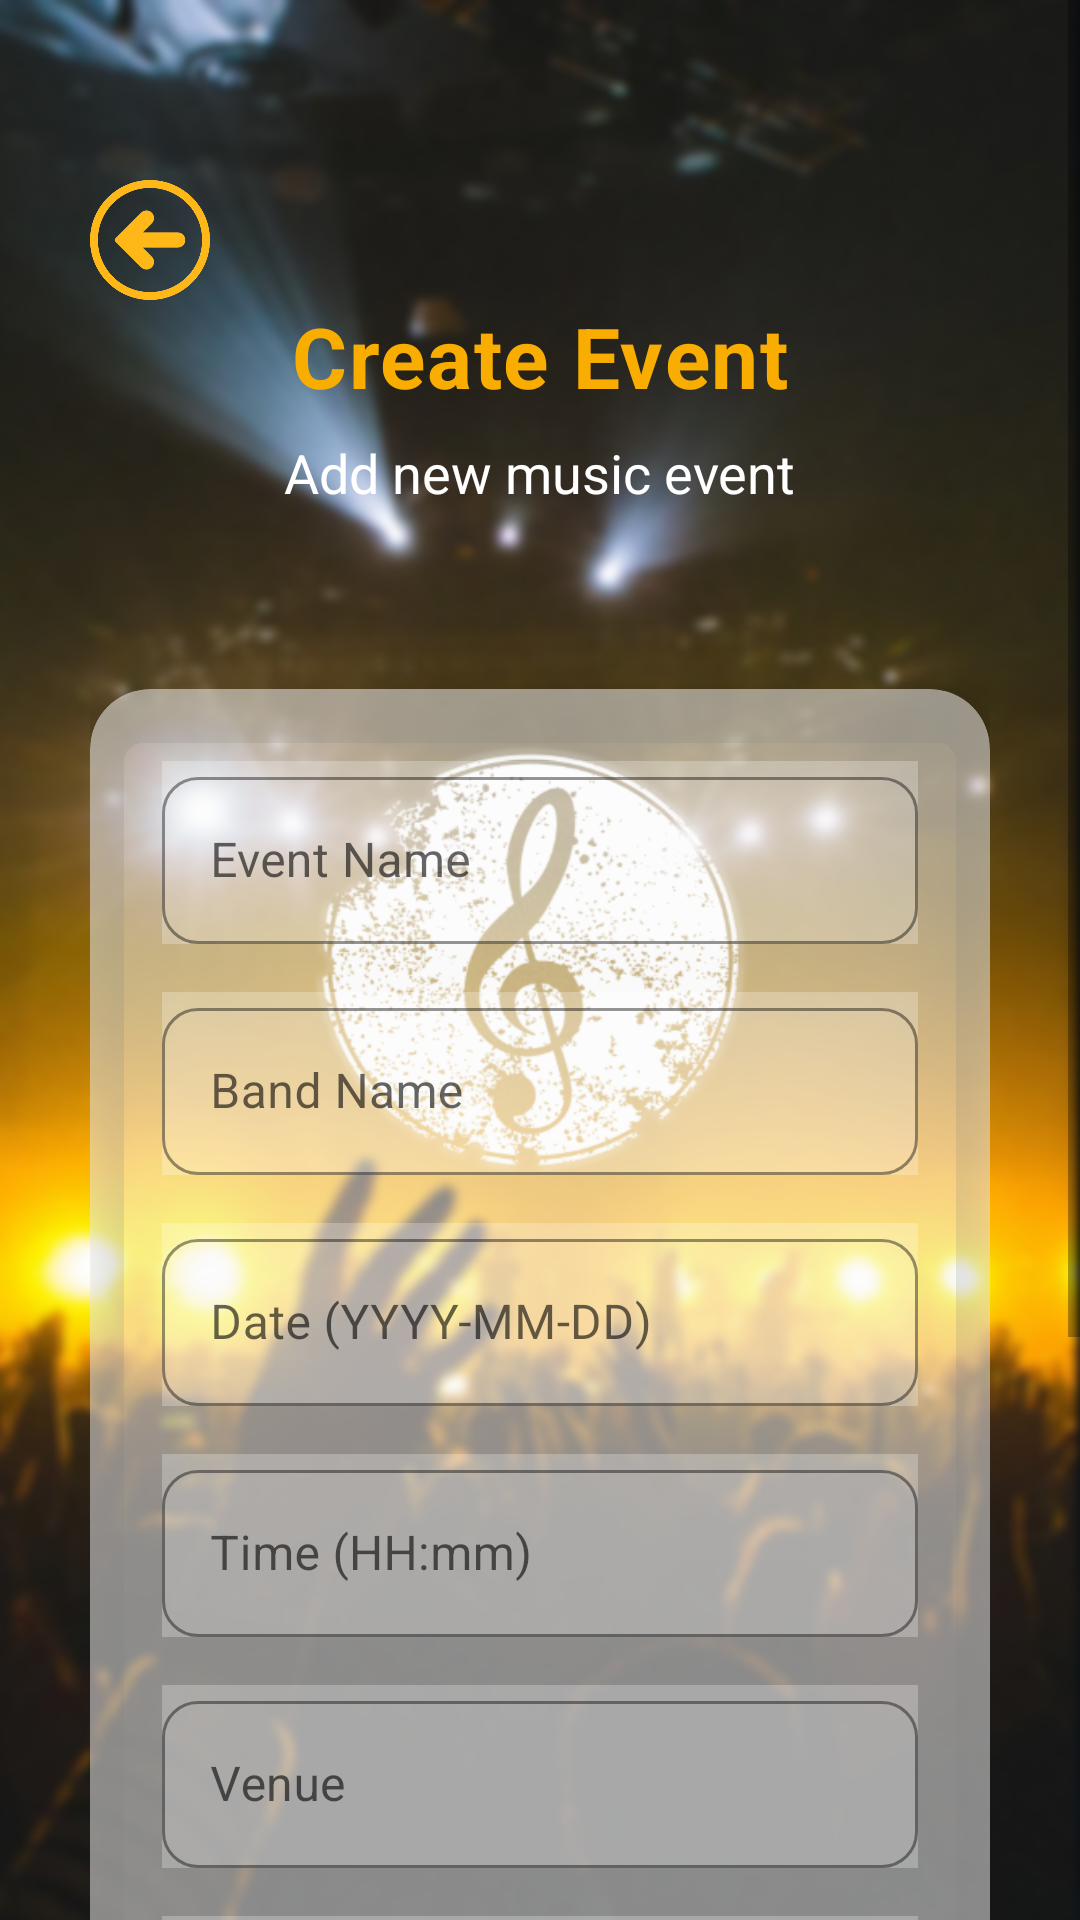

Where to tap for icons on this 1080 × 1920 app screen, as (x=x, y=y):
Back: (x=150, y=240)
